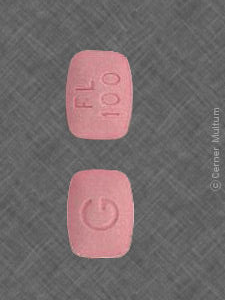Square: (68, 169, 135, 259), (67, 51, 133, 141)
